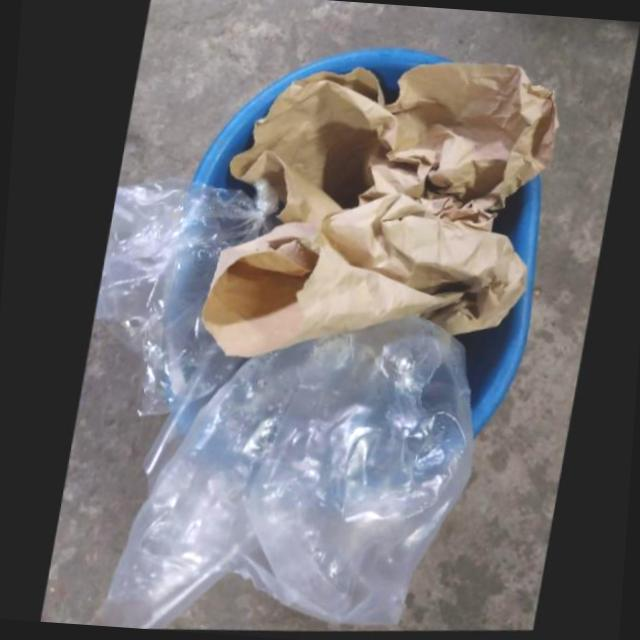giay: (194, 70, 548, 363)
tui_ni_long: (87, 178, 470, 636)
